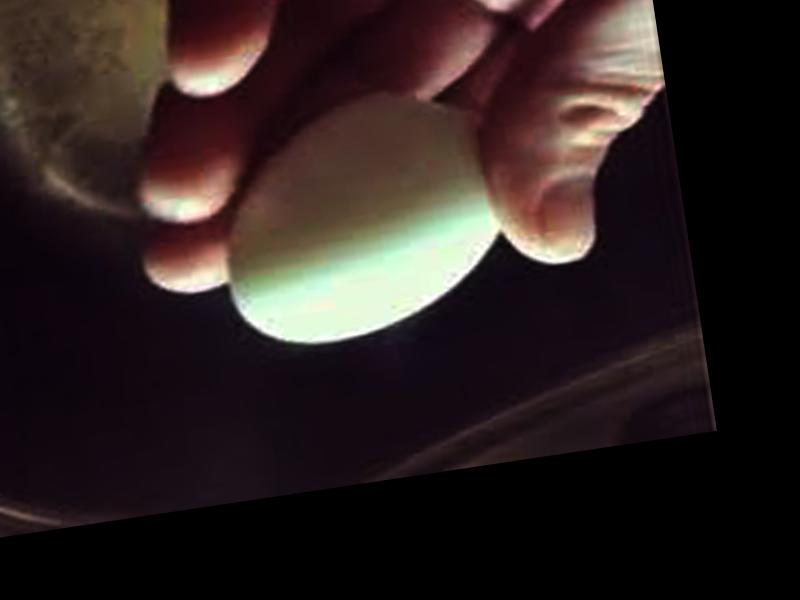Eggs: (204, 82, 515, 356)
